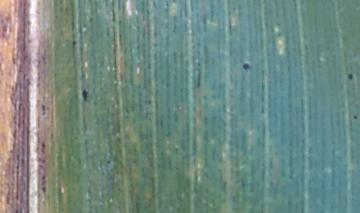tarspot: (79, 86, 91, 103), (239, 61, 252, 72), (347, 71, 356, 81), (352, 113, 359, 122), (72, 38, 78, 48)
